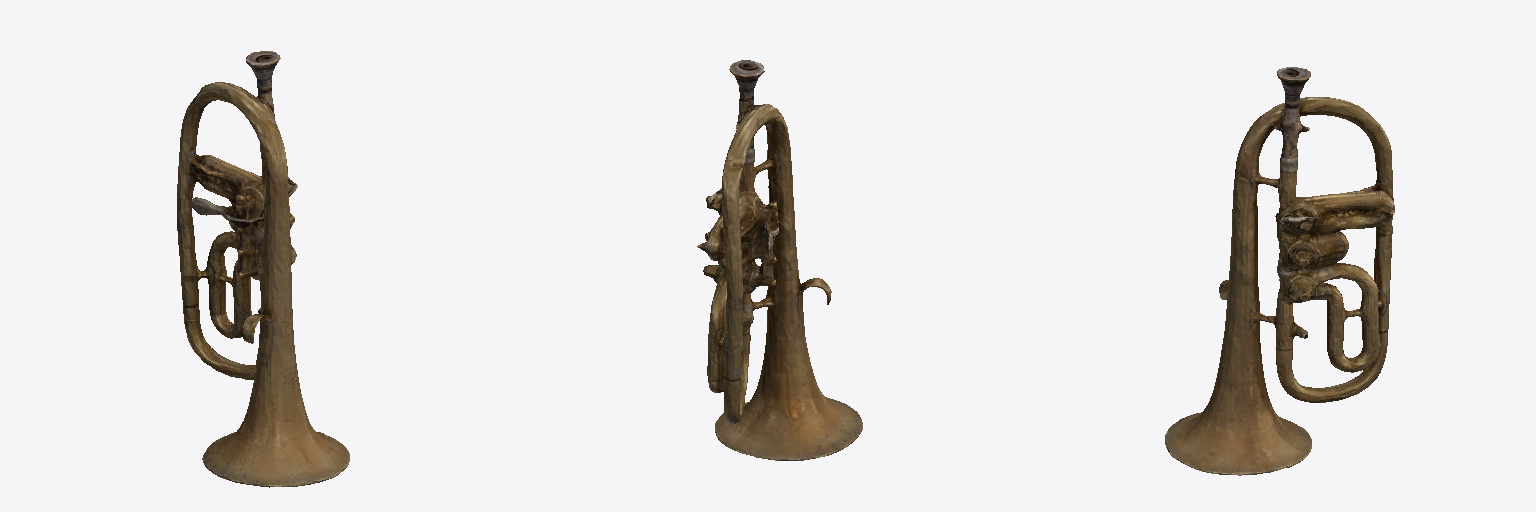
3 views of the same model, side by side, from view 1: azimuth 30°, elevation 25°; view 2: azimuth 150°, elevation 25°; view 3: azimuth 270°, elevation 25° (orthographic).
Bounding box in the file's own units: 54.89 × 156 × 85.33.
1 materials, 1 textured.